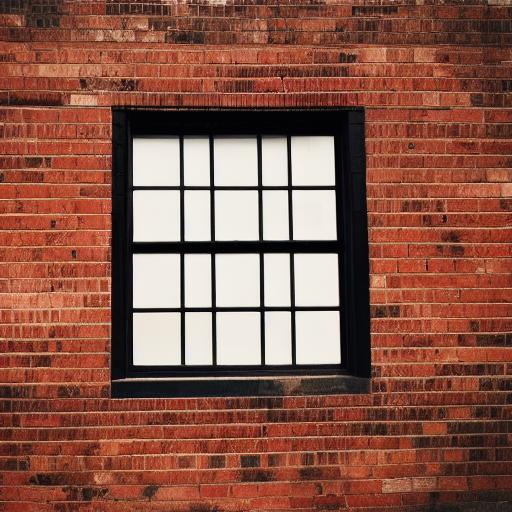Window: (110, 101, 375, 401)
